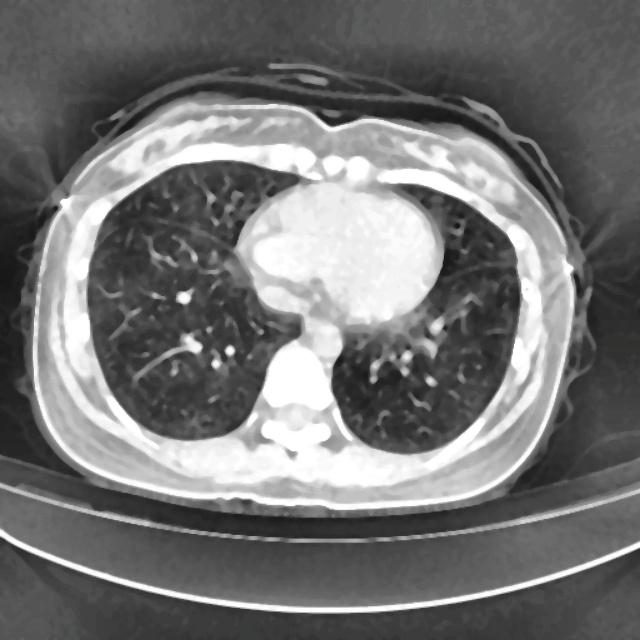covid: (15, 62, 595, 517)
